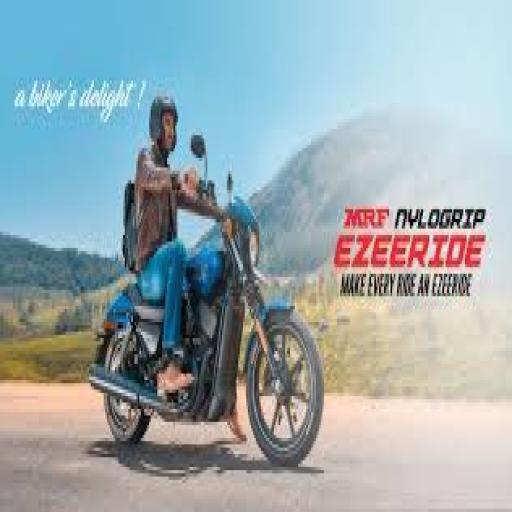helmet: (88, 129, 326, 467), (148, 90, 178, 152)
